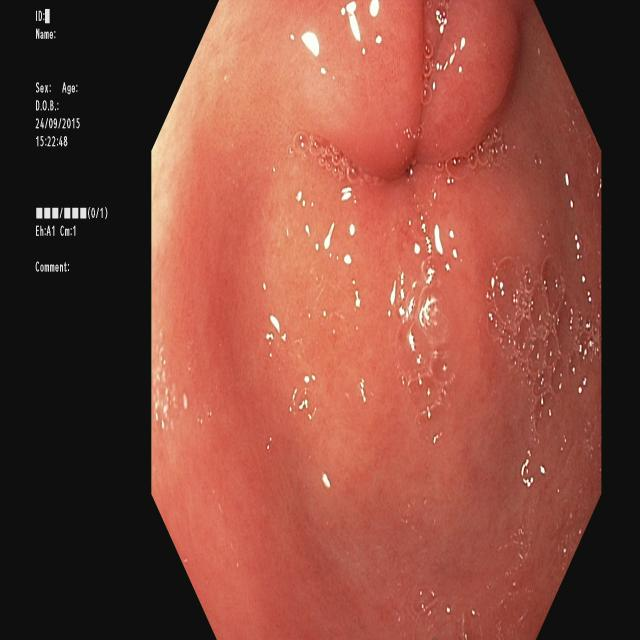normal-pylorus: (259, 0, 569, 506)
